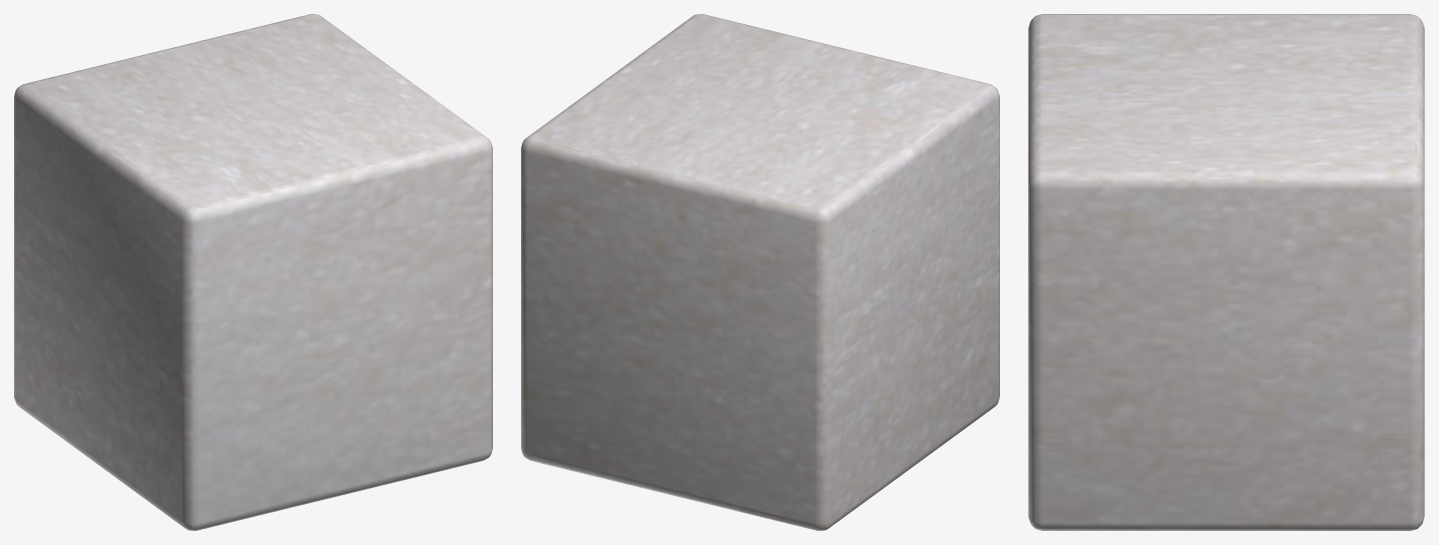
File: CuboAzucar.fbx
The picture shows the model from 3 angles, left to right: view 1: azimuth 30°, elevation 25°; view 2: azimuth 150°, elevation 25°; view 3: azimuth 270°, elevation 25°; orthographic projection. The views are drawn at different scales.
Parts seen in each view (by area): view 1: CuboAzucar; view 2: CuboAzucar; view 3: CuboAzucar.
Part boxes in pixels (box(x1,y1,x2,y2)): CuboAzucar: box(14, 14, 492, 530); CuboAzucar: box(521, 14, 999, 530); CuboAzucar: box(1028, 14, 1424, 530).
Bounding box in the file's own units: 200 × 200 × 200.
